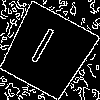I: (22, 26, 58, 73)
